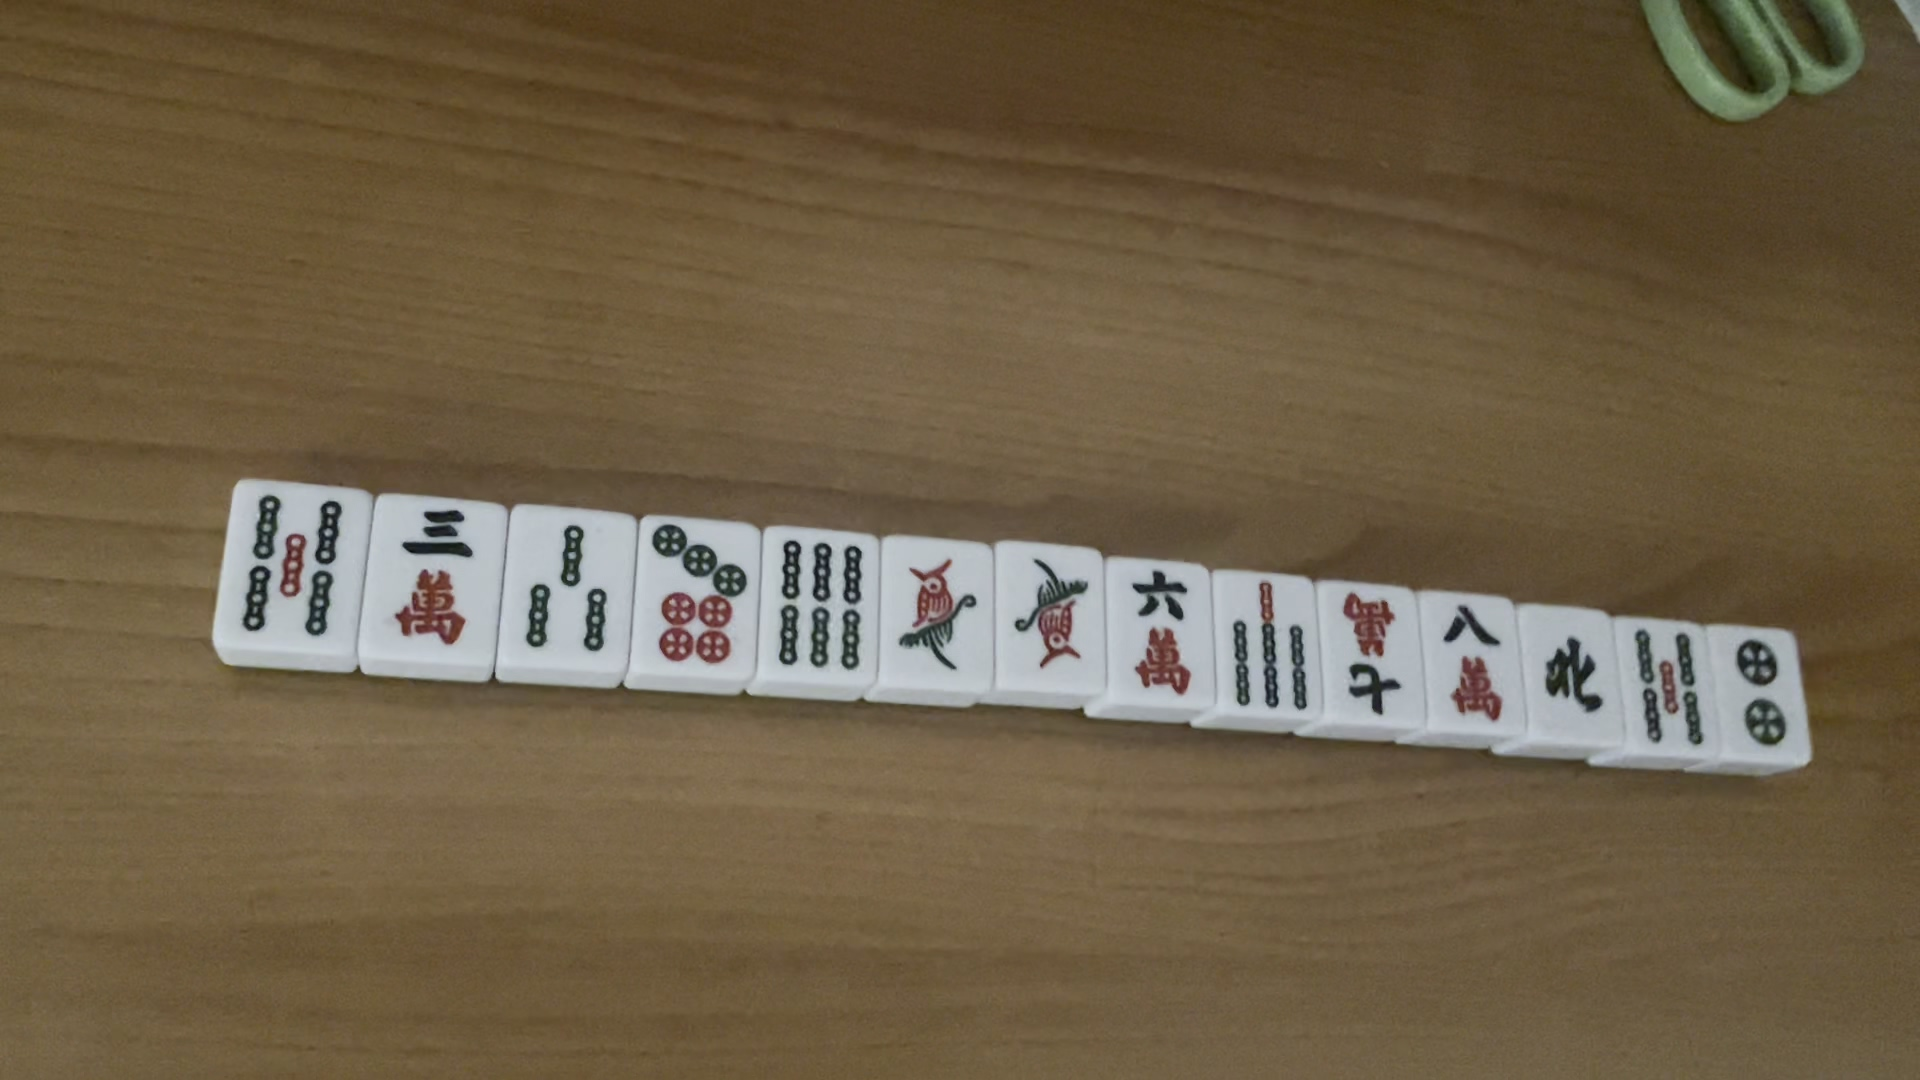b-1: (890, 554, 982, 676), (1011, 554, 1098, 673)
b-3: (516, 518, 616, 662)
b-5: (220, 487, 348, 650), (1625, 626, 1712, 748)
b-6: (774, 530, 865, 679)
b-7: (1225, 575, 1316, 711), (1336, 591, 1402, 725)
c-3: (381, 502, 480, 644)
c-6: (1126, 562, 1196, 702)
c-8: (1432, 605, 1509, 727)
d-2: (1731, 637, 1784, 746)
d-7: (641, 516, 746, 667)
honors-north: (1542, 628, 1600, 717)
